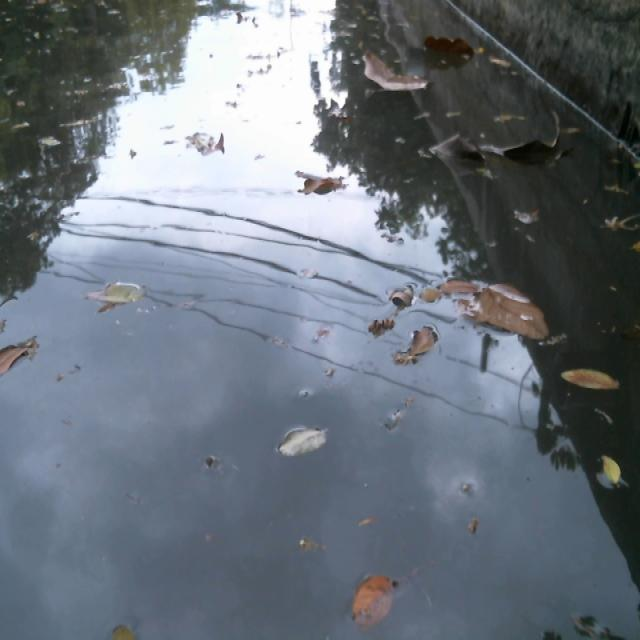Big-leaf: (475, 273, 551, 346), (358, 44, 432, 95), (489, 125, 566, 170), (425, 129, 489, 165), (426, 31, 479, 64), (181, 128, 232, 157)
Small-leaf: (347, 567, 400, 628), (275, 419, 330, 461), (0, 329, 42, 377), (558, 364, 622, 392), (87, 279, 145, 307), (406, 319, 438, 355), (596, 452, 624, 490), (437, 273, 481, 295), (387, 281, 418, 312), (107, 618, 138, 640), (513, 203, 540, 227), (419, 284, 442, 305)
